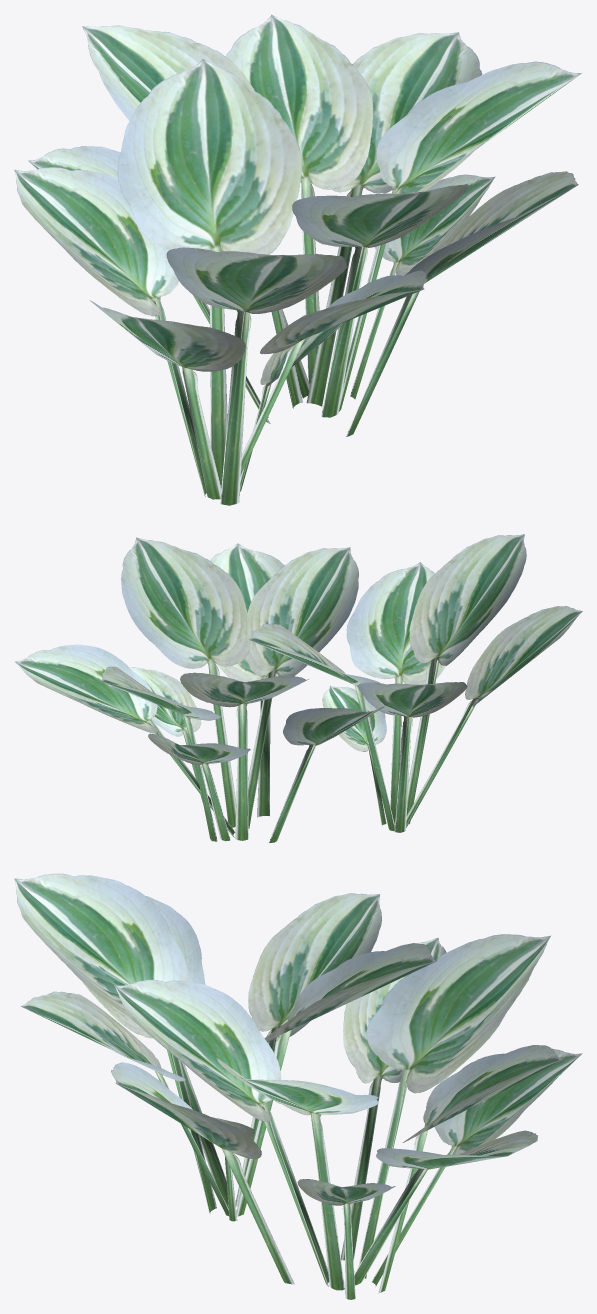
The model's file is plant_small_wg_01T.fbx.
The picture shows the model from 3 angles, top to bottom: view 1: azimuth 30°, elevation 25°; view 2: azimuth 150°, elevation 25°; view 3: azimuth 270°, elevation 25°; orthographic projection. The views are drawn at different scales.
Visible parts, largest first — view 1: plant_small_wg_01T; view 2: plant_small_wg_01T; view 3: plant_small_wg_01T.
Part boxes in pixels (x1=…): plant_small_wg_01T: x1=14, y1=14, x2=581, y2=505; plant_small_wg_01T: x1=15, y1=534, x2=582, y2=842; plant_small_wg_01T: x1=14, y1=873, x2=582, y2=1299.
Bounding box in the file's own units: 86.77 × 49.98 × 83.62.
